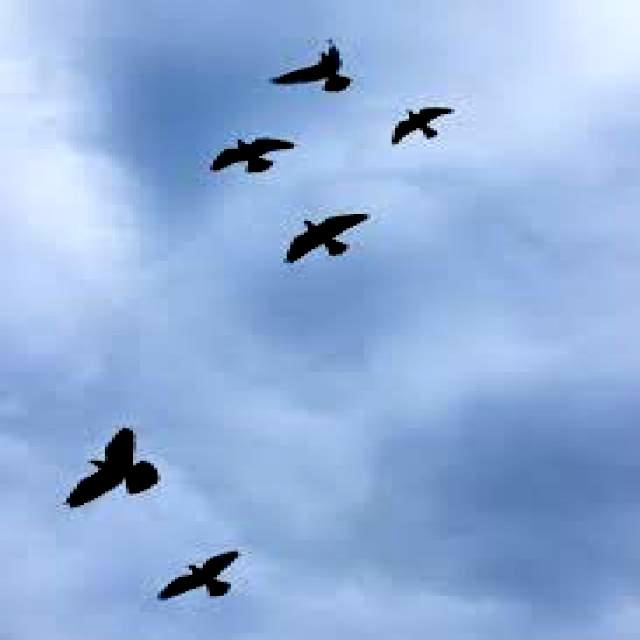bird: (60, 426, 168, 508), (269, 33, 358, 115), (196, 135, 312, 183), (374, 100, 476, 154), (279, 209, 371, 265), (150, 549, 250, 600)
